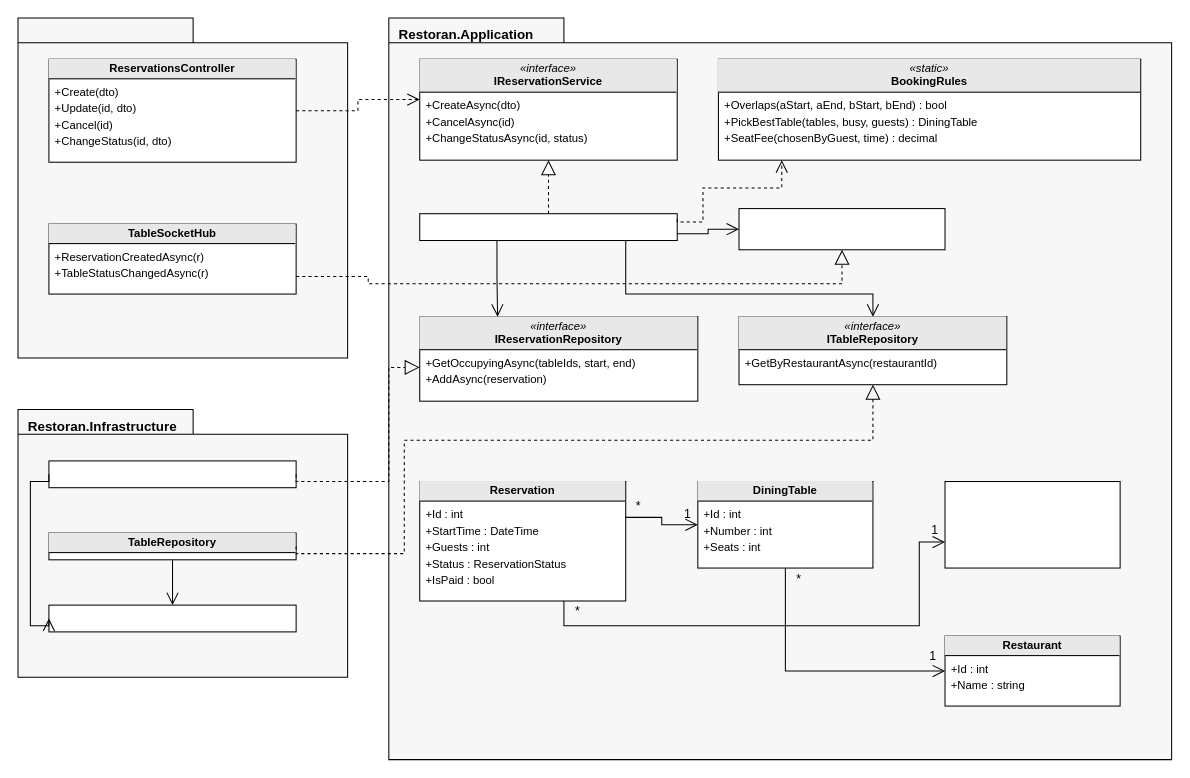
The diagram is 1190 pixels wide and 778 high, and some of its shapes have lost their labels. The shapes that lost their labels are listed below. From the top down, each one's box as (x1, y1, x2, y2) in pixels, then its label:
(17, 17, 348, 358): Restoran.Api
(419, 213, 677, 241): ReservationService
(738, 208, 945, 250): «interface» IRealtimeNotifier
(48, 460, 296, 488): ReservationRepository
(944, 480, 1120, 568): User +Id : int +Name : string +Role : UserRole
(48, 604, 296, 632): AppDbContext
